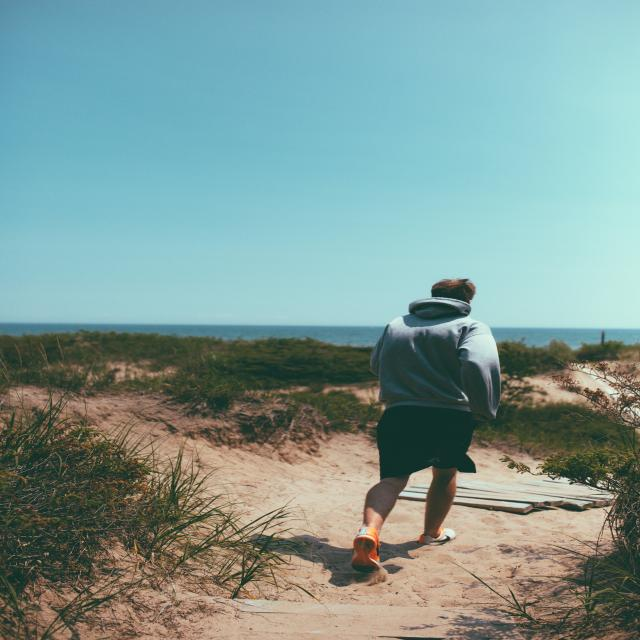running: (343, 277, 511, 577)
